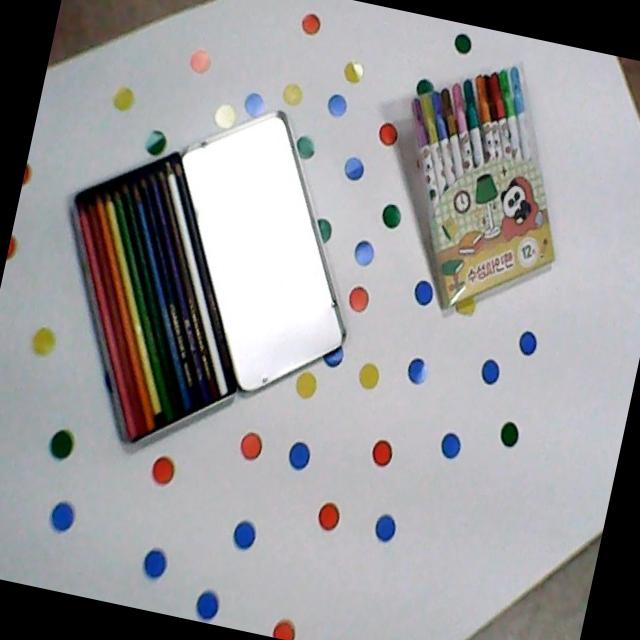color: (58, 146, 245, 455)
signpen: (402, 53, 562, 320)
